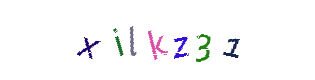1: (140, 0, 220, 80)
3: (136, 0, 216, 80)
I: (116, 0, 196, 80)
K: (117, 0, 197, 80)
L: (117, 0, 197, 80)
X: (107, 0, 187, 80)
Z: (120, 0, 200, 80)
